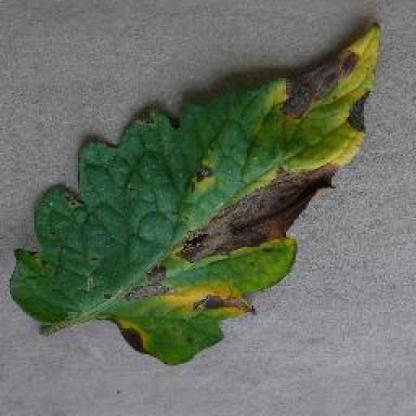Tomato_Blight: (8, 24, 380, 362)
